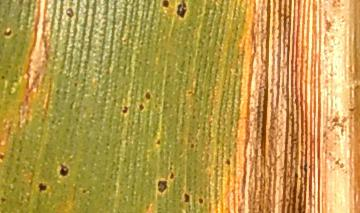tarspot: (175, 1, 187, 19), (155, 179, 169, 194), (57, 163, 71, 177), (64, 8, 74, 19), (37, 182, 48, 192), (2, 28, 13, 37), (121, 105, 130, 115), (183, 193, 191, 204), (144, 90, 152, 101), (161, 1, 170, 9), (138, 102, 145, 112), (197, 197, 205, 205), (154, 138, 162, 146), (169, 172, 176, 181), (189, 141, 195, 150), (1, 196, 7, 204), (225, 157, 230, 166), (1, 152, 5, 161)
